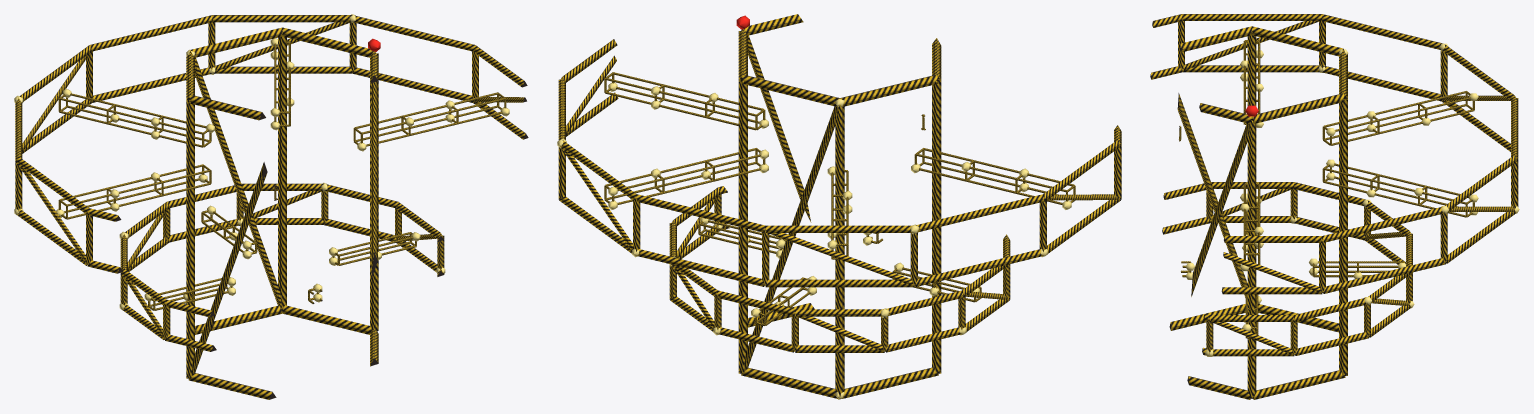
Rendered from research_station_build1_debris1.obj.
The picture shows the model from 3 angles, left to right: view 1: azimuth 30°, elevation 25°; view 2: azimuth 150°, elevation 25°; view 3: azimuth 270°, elevation 25°; orthographic projection. The views are drawn at different scales.
Visible parts, largest first — view 1: girder, post, brace, work_light; view 2: girder, post, brace, work_light; view 3: girder, post, brace, work_light.
Boxes of the visible parts, x1,y1,x2,y2 form: girder: [15, 15, 528, 399]; post: [15, 20, 505, 378]; brace: [18, 22, 526, 376]; work_light: [14, 14, 509, 330]; girder: [558, 14, 1121, 398]; post: [558, 31, 1121, 396]; brace: [561, 35, 1118, 371]; work_light: [557, 82, 1071, 399]; girder: [1150, 14, 1518, 399]; post: [1178, 18, 1518, 397]; brace: [1177, 21, 1515, 354]; work_light: [1186, 43, 1519, 356].
Bounding box in the file's own units: 147 × 89.61 × 102.
4 materials, 1 textured.
